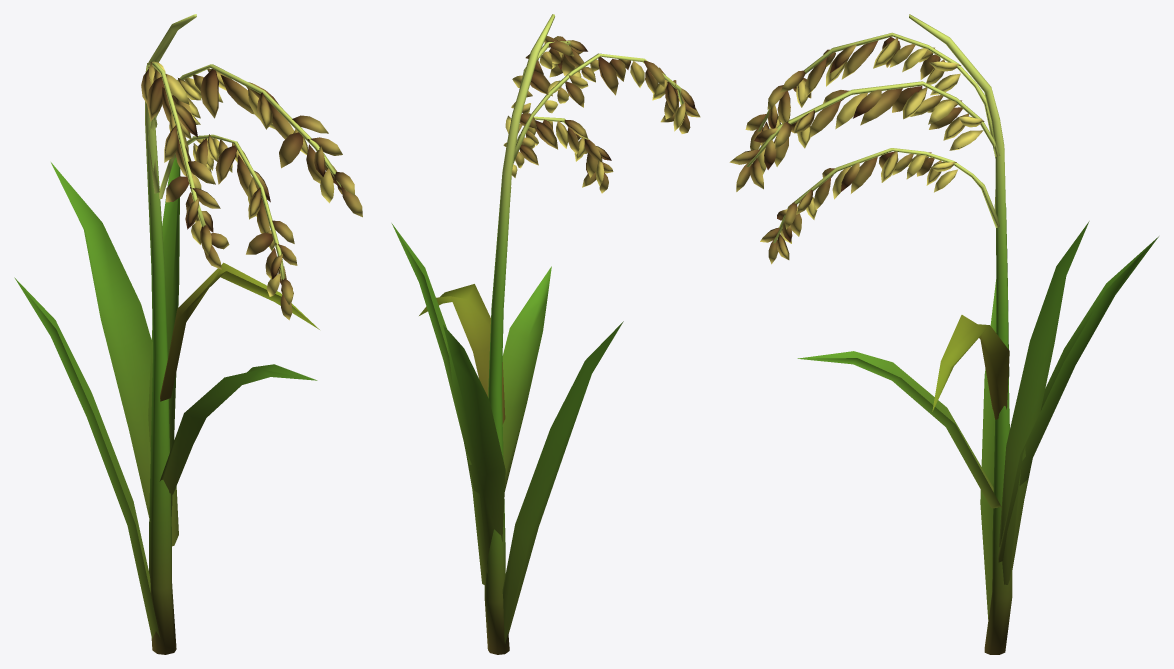
Rendered from SM_RiceCrop_01.fbx.
3 views of the same model, side by side, from view 1: azimuth 30°, elevation 25°; view 2: azimuth 150°, elevation 25°; view 3: azimuth 270°, elevation 25° (orthographic). The views are drawn at different scales.
Visible parts, largest first — view 1: SM_RiceCrop_01; view 2: SM_RiceCrop_01; view 3: SM_RiceCrop_01.
Part boxes in pixels (x1,y1,x2,y2): SM_RiceCrop_01: (14,14,362,654); SM_RiceCrop_01: (391,14,700,654); SM_RiceCrop_01: (729,14,1158,654).
Bounding box in the file's own units: 1.69 × 4.09 × 2.52.
